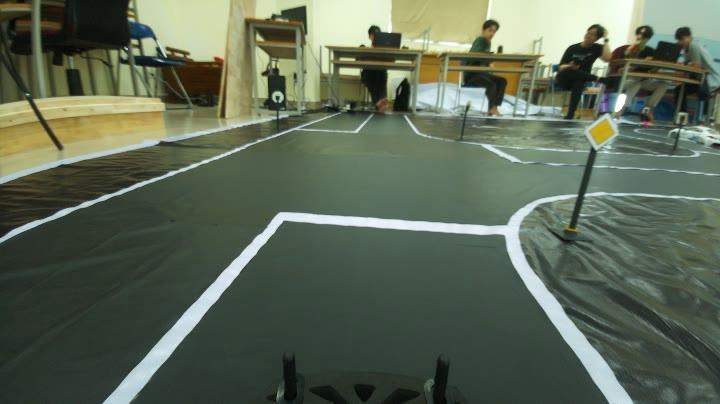priority: (578, 110, 616, 145)
